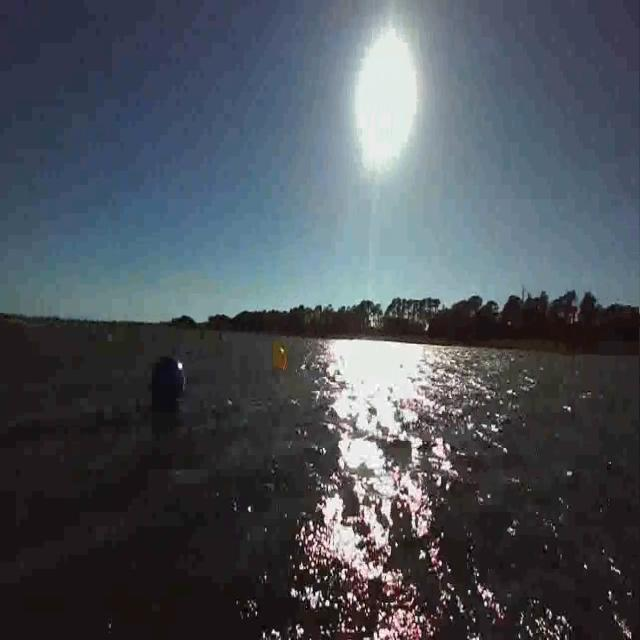blue-buoy: (151, 355, 187, 410)
yellow-buoy: (266, 347, 290, 369)
